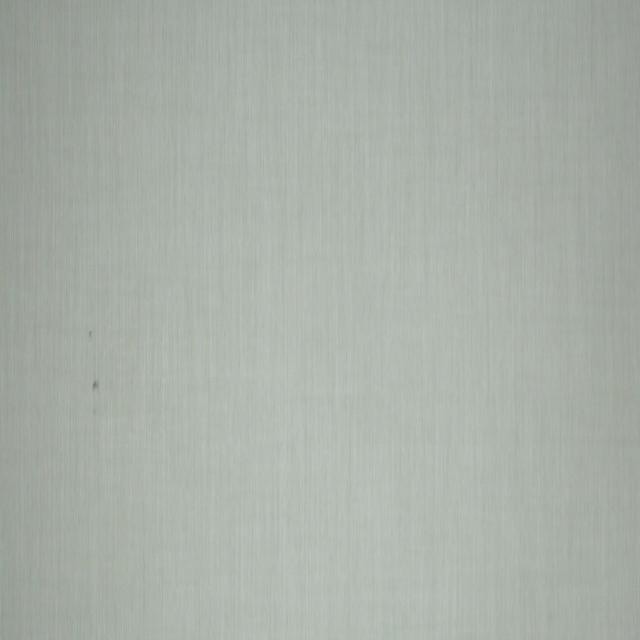dirty: (92, 380, 99, 390), (89, 330, 92, 340), (93, 408, 96, 415)
